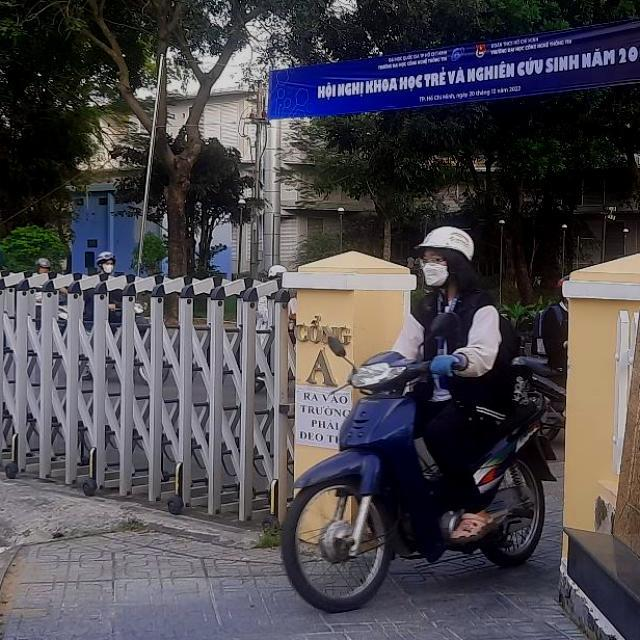Helmet: (418, 224, 476, 288)
